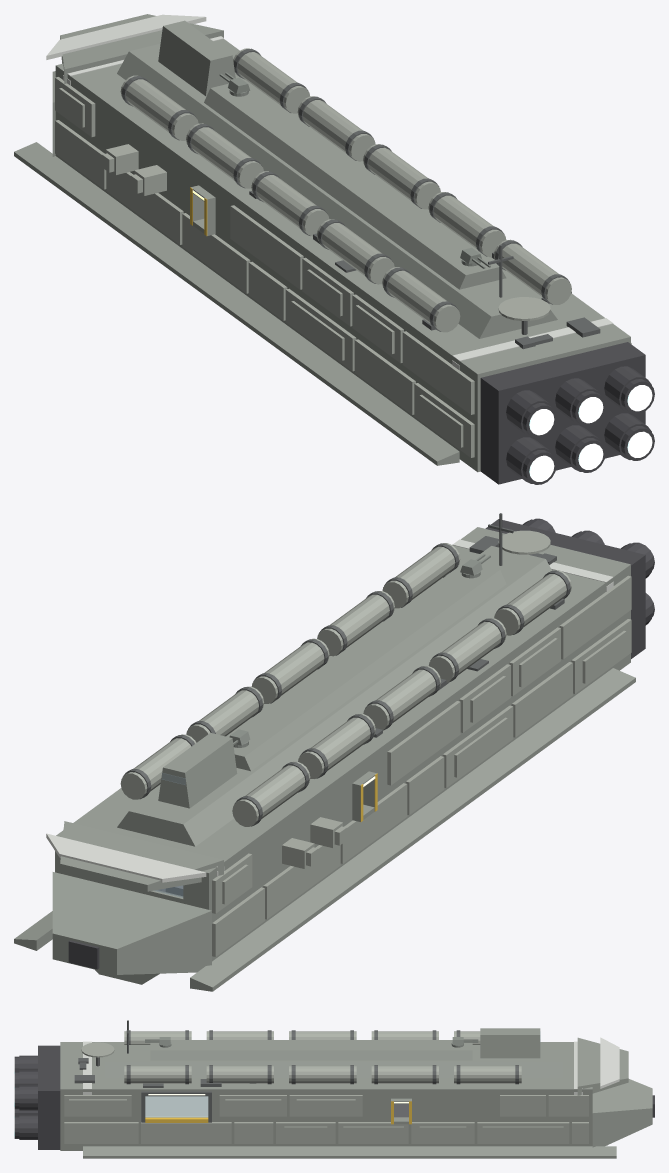
Rendered from ship_SMALL_SUPPORT_v1.glb.
The picture shows the model from 3 angles, top to bottom: view 1: azimuth 30°, elevation 25°; view 2: azimuth 150°, elevation 25°; view 3: azimuth 270°, elevation 25°; orthographic projection. The views are drawn at different scales.
Parts seen in each view (by area): view 1: SMALL_SUPPORT_Hull-col, SMALL_SUPPORT_Armor, SMALL_SUPPORT_Engines, SMALL_SUPPORT_Trim, SMALL_SUPPORT_Accent, SMALL_SUPPORT_EngineGlow, SMALL_SUPPORT_Details, SMALL_SUPPORT_EscapePod_2, SMALL_SUPPORT_EscapePod_1; view 2: SMALL_SUPPORT_Hull-col, SMALL_SUPPORT_Armor, SMALL_SUPPORT_Engines, SMALL_SUPPORT_Trim, SMALL_SUPPORT_Accent, SMALL_SUPPORT_Details, SMALL_SUPPORT_EscapePod_1, SMALL_SUPPORT_EscapePod_2; view 3: SMALL_SUPPORT_Hull-col, SMALL_SUPPORT_Armor, SMALL_SUPPORT_Engines, SMALL_SUPPORT_Trim, SMALL_SUPPORT_CargoBayShield, SMALL_SUPPORT_Accent, SMALL_SUPPORT_CargoBayDoor-col, SMALL_SUPPORT_Details, SMALL_SUPPORT_Hazard.
Boxes of the visible parts, x1=… form: SMALL_SUPPORT_Hull-col: x1=14, y1=14, x2=630, y2=472; SMALL_SUPPORT_Armor: x1=55, y1=48, x2=631, y2=457; SMALL_SUPPORT_Engines: x1=480, y1=342, x2=654, y2=484; SMALL_SUPPORT_Trim: x1=121, y1=48, x2=571, y2=334; SMALL_SUPPORT_Accent: x1=46, y1=14, x2=613, y2=370; SMALL_SUPPORT_EngineGlow: x1=529, y1=385, x2=652, y2=481; SMALL_SUPPORT_Details: x1=249, y1=191, x2=600, y2=349; SMALL_SUPPORT_EscapePod_2: x1=102, y1=144, x2=138, y2=174; SMALL_SUPPORT_EscapePod_1: x1=130, y1=165, x2=166, y2=195; SMALL_SUPPORT_Hull-col: x1=14, y1=527, x2=635, y2=991; SMALL_SUPPORT_Armor: x1=55, y1=530, x2=631, y2=956; SMALL_SUPPORT_Engines: x1=68, y1=518, x2=654, y2=969; SMALL_SUPPORT_Trim: x1=123, y1=543, x2=570, y2=826; SMALL_SUPPORT_Accent: x1=46, y1=539, x2=613, y2=882; SMALL_SUPPORT_Details: x1=374, y1=513, x2=564, y2=737; SMALL_SUPPORT_EscapePod_1: x1=310, y1=817, x2=346, y2=847; SMALL_SUPPORT_EscapePod_2: x1=282, y1=838, x2=318, y2=868; SMALL_SUPPORT_Hull-col: x1=60, y1=1028, x2=652, y2=1158; SMALL_SUPPORT_Armor: x1=64, y1=1031, x2=588, y2=1143; SMALL_SUPPORT_Engines: x1=14, y1=1045, x2=654, y2=1149; SMALL_SUPPORT_Trim: x1=96, y1=1030, x2=518, y2=1122; SMALL_SUPPORT_CargoBayShield: x1=145, y1=1096, x2=208, y2=1116; SMALL_SUPPORT_Accent: x1=83, y1=1037, x2=619, y2=1094; SMALL_SUPPORT_CargoBayDoor-col: x1=145, y1=1096, x2=208, y2=1116; SMALL_SUPPORT_Details: x1=74, y1=1020, x2=255, y2=1087; SMALL_SUPPORT_Hazard: x1=145, y1=1101, x2=411, y2=1124.
Size of the model in its own units: 19.8 by 17.4 by 85.5.
